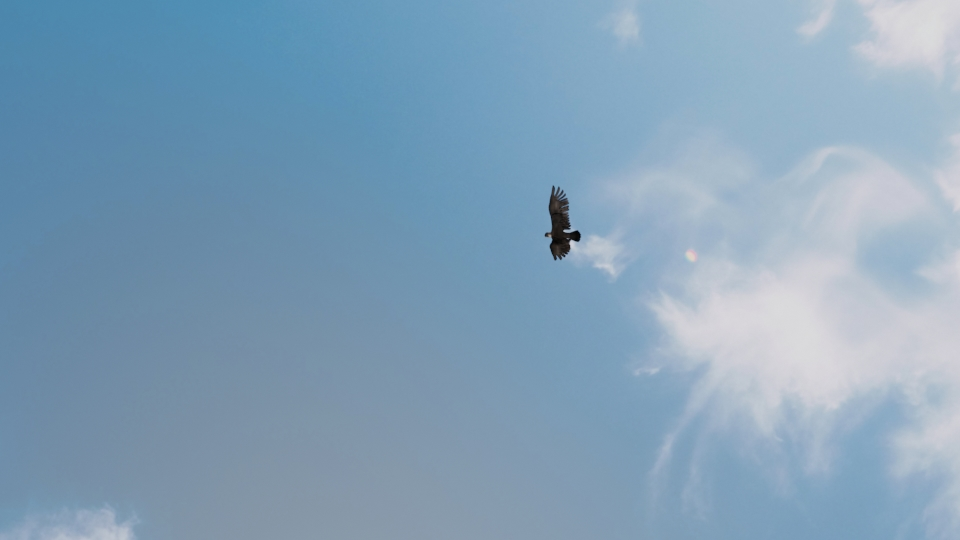bird: (542, 185, 582, 262)
